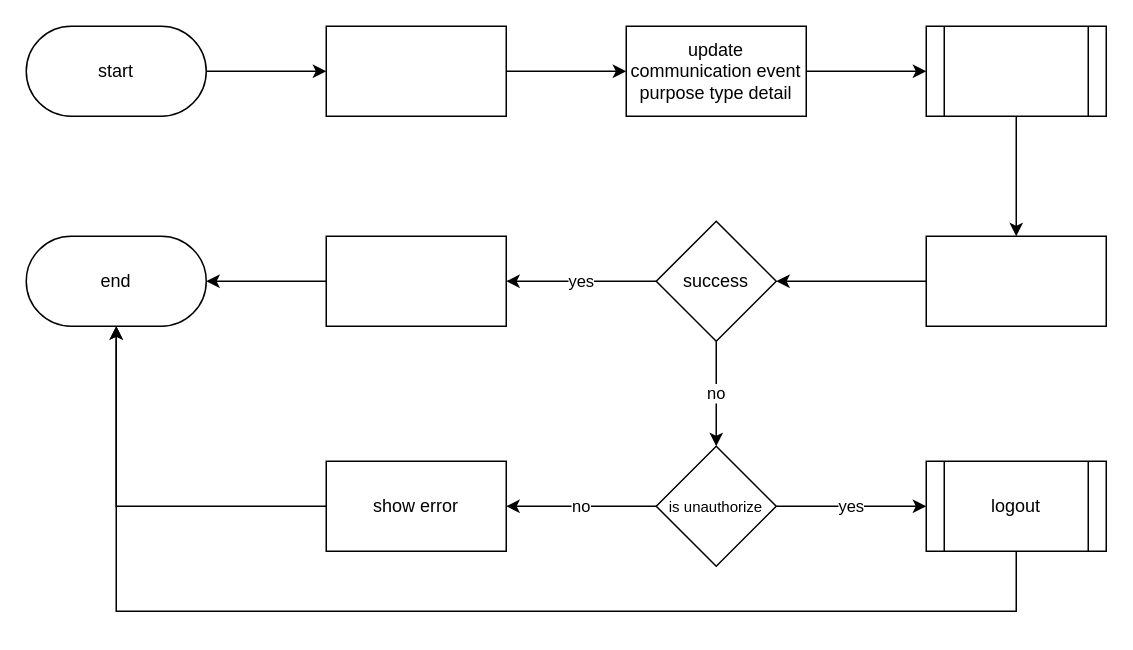
The diagram is 1133 pixels wide and 650 high, and some of its shapes have lost their labels. The centre of each missing label's shape, as x and y in pixels:
check auth: the point at 1015,70
press update communication event purpose type button: the point at 415,70
show communication event purpose types: the point at 415,280
use access token to update communication event purpose type: the point at 1015,280
